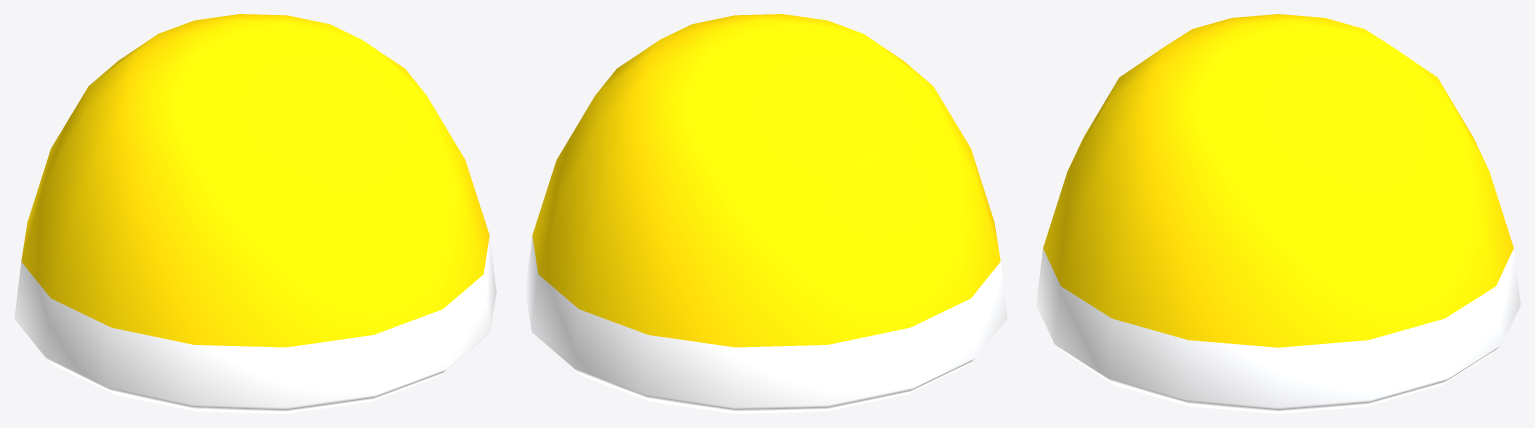
File: Candy_13.glb
3 views of the same model, side by side, from view 1: azimuth 30°, elevation 25°; view 2: azimuth 150°, elevation 25°; view 3: azimuth 270°, elevation 25° (orthographic).
Visible parts, largest first — view 1: Candy_13; view 2: Candy_13; view 3: Candy_13.
Part boxes in pixels (bbox=[...]): Candy_13: bbox=[14, 14, 496, 413]; Candy_13: bbox=[525, 14, 1007, 413]; Candy_13: bbox=[1036, 14, 1520, 413].
Bounding box in the file's own units: 2.04 × 1.28 × 2.04.
1 material, 1 textured.
